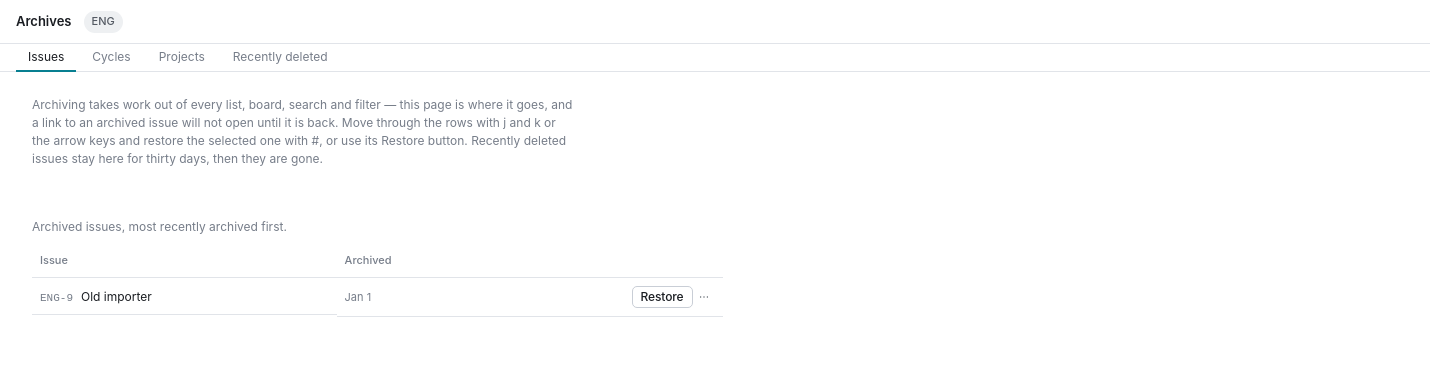
Test: Archives row menu › unarchives the row the menu was opened on, with that row’s id
Click the button named "Options for ENG-9" at (704, 296), box [692,286,714,308]
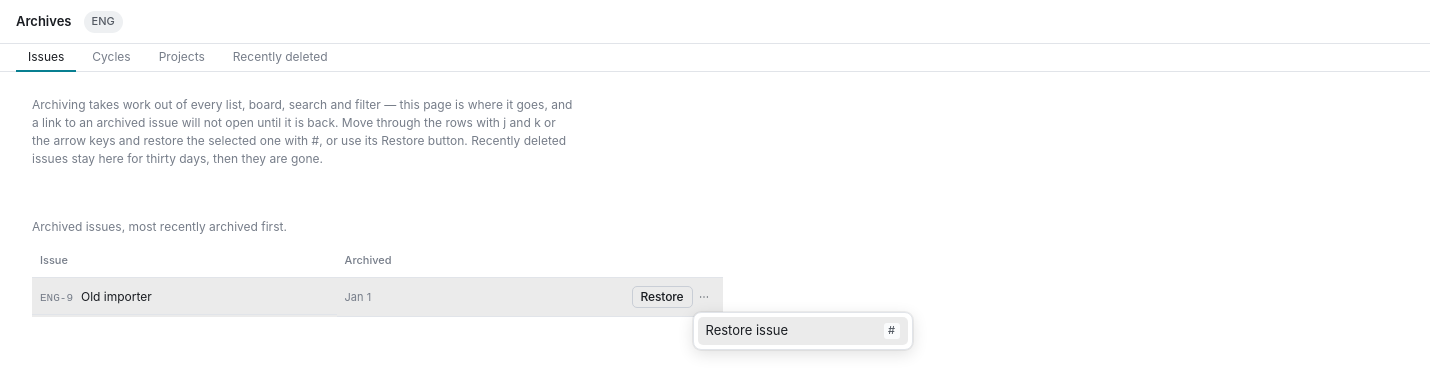
Click the menu item "Restore issue #" at (802, 330), box [698,316,908,344]
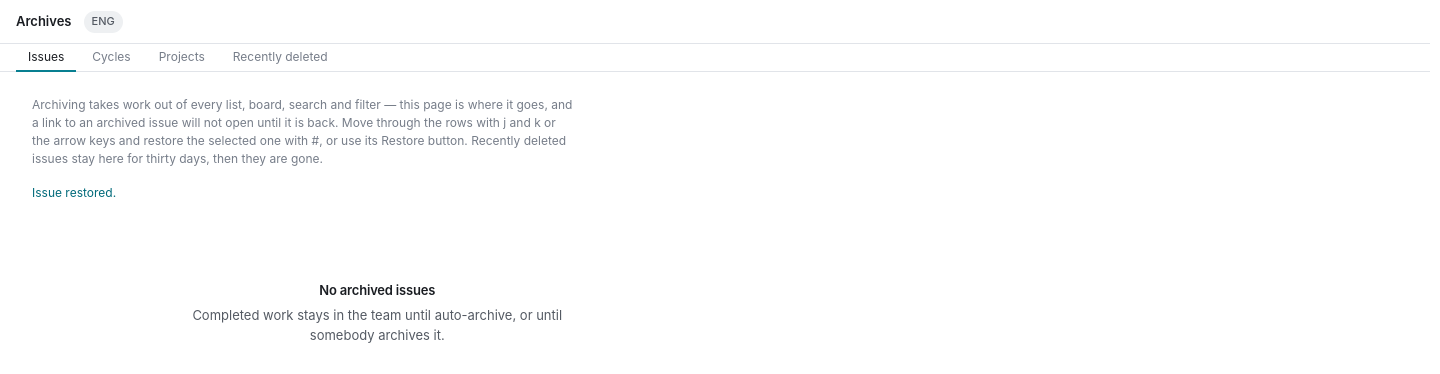
Check: the text "Issue restored." is shown, box [32,185,116,200]
